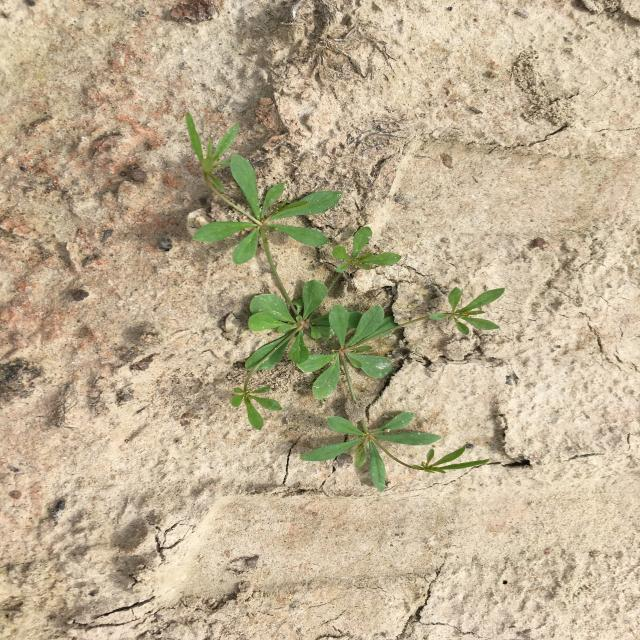Carpetweed: (185, 111, 506, 492)
